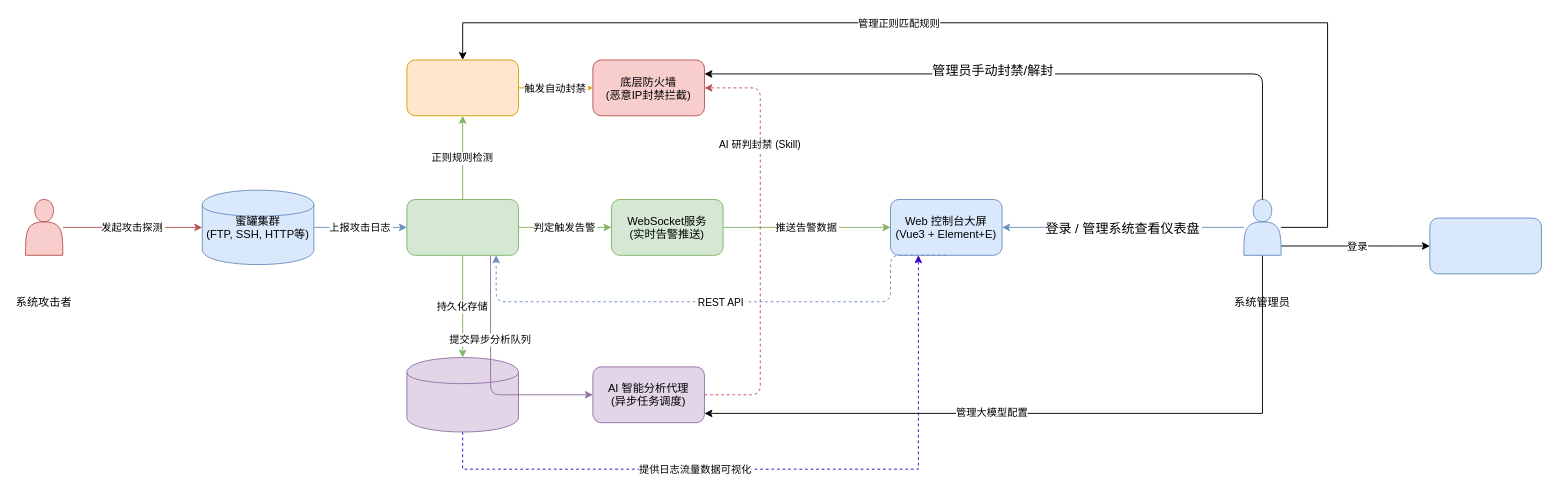
This 1558x493 diagram has some shape labels left out. Here are the shapes that lost their labels. From the top down, the box of each, then its label:
(406, 59, 518, 116): 匹配规则引擎
(406, 199, 518, 255): 后端核心服务 (Flask API)
(1429, 217, 1541, 274): 用户管理 (Vue3 + Element)
(406, 357, 518, 432): MySQL 数据库
